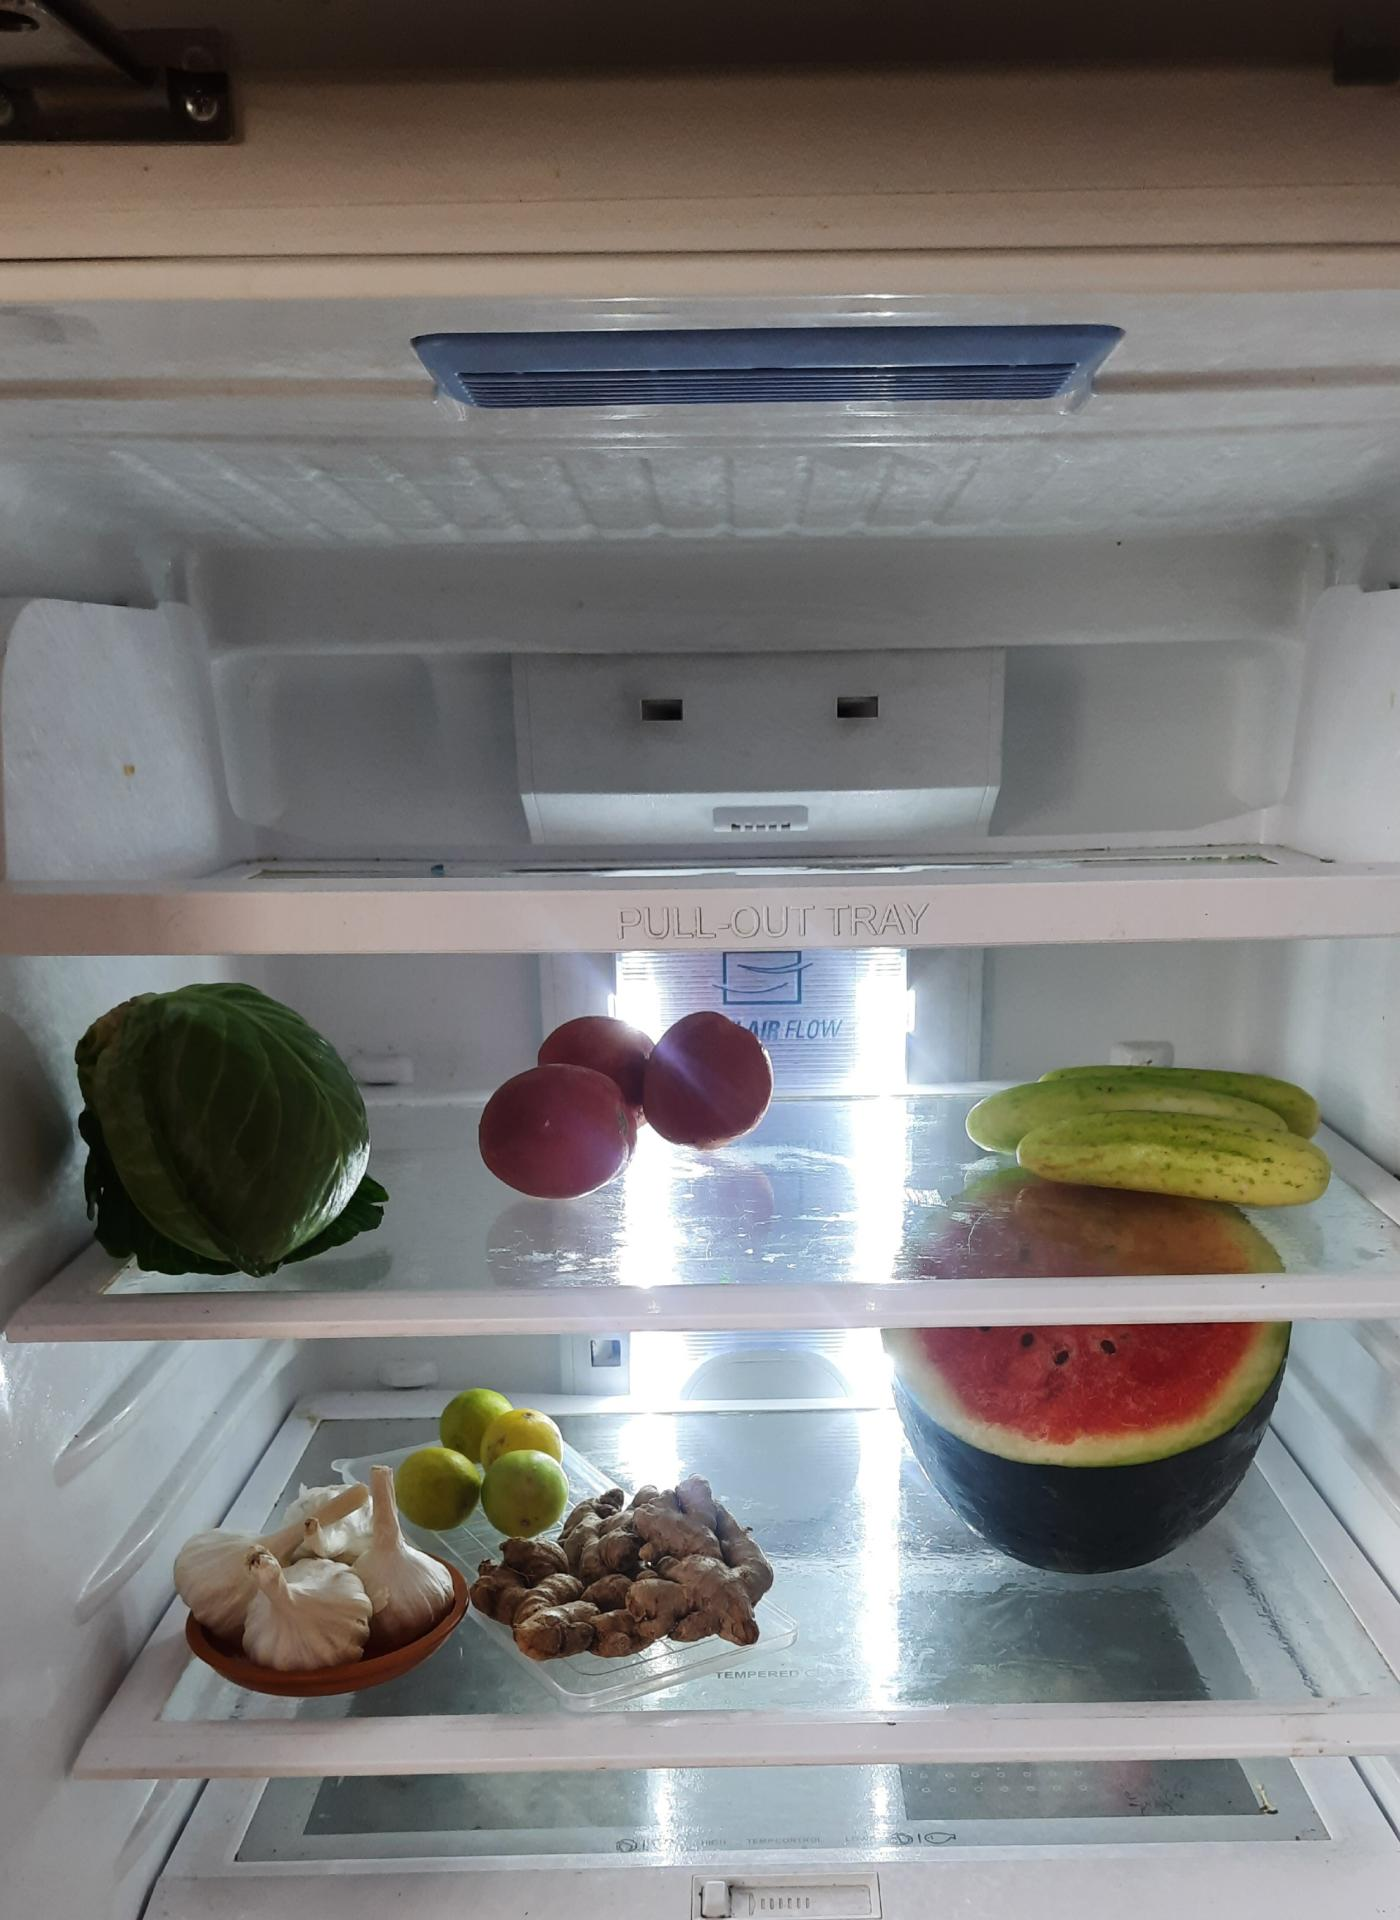cabbage: (75, 981, 376, 1264)
cucumber: (966, 1063, 1337, 1206)
garlic: (165, 1467, 459, 1687)
ginger: (462, 1482, 780, 1671)
lemon: (397, 1388, 567, 1538)
tomato: (480, 1006, 775, 1197)
watermelon: (881, 1318, 1284, 1570)
